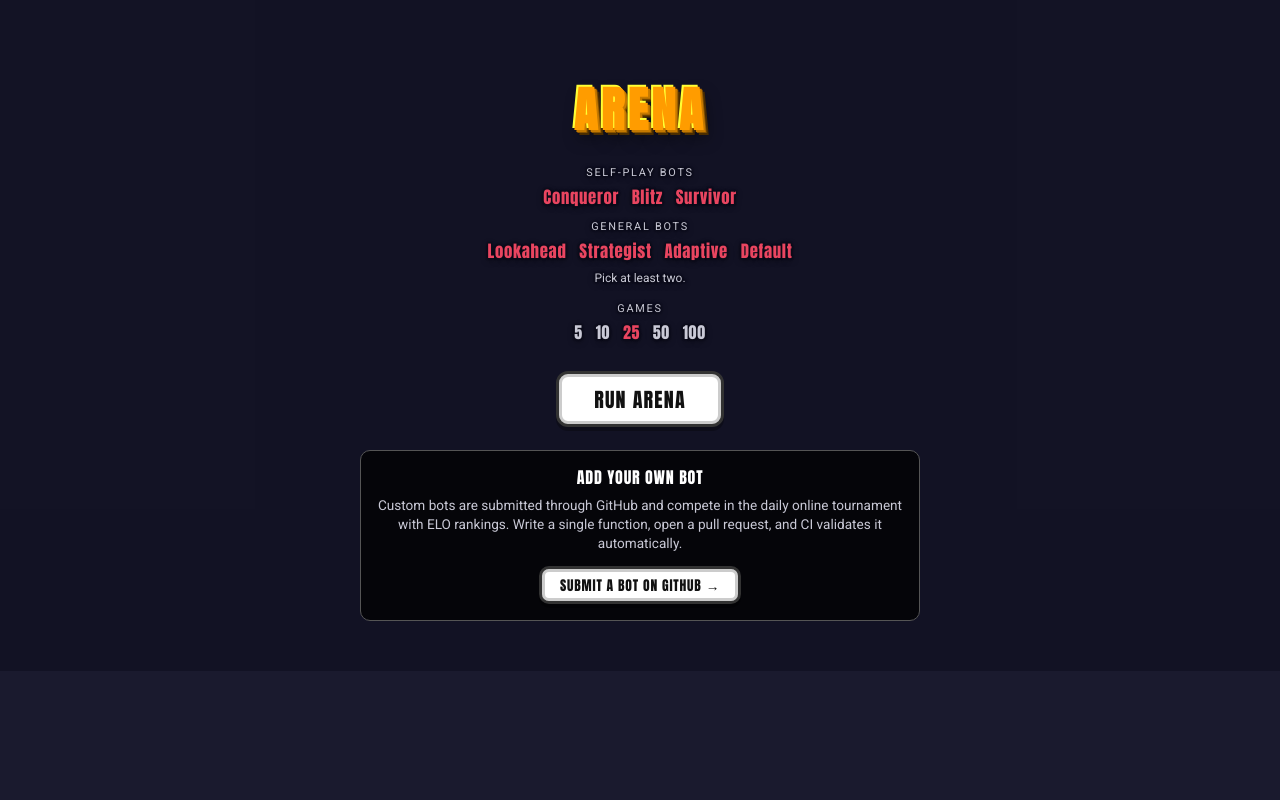
Test: ArenaScreen broken-bot surfacing › warns and badges a bot that errors on every turn when RUN ARENA is clicked
This screenshot has width=1280, height=800.
Click the button "5": coordinates (579, 332) [568,318,589,346]
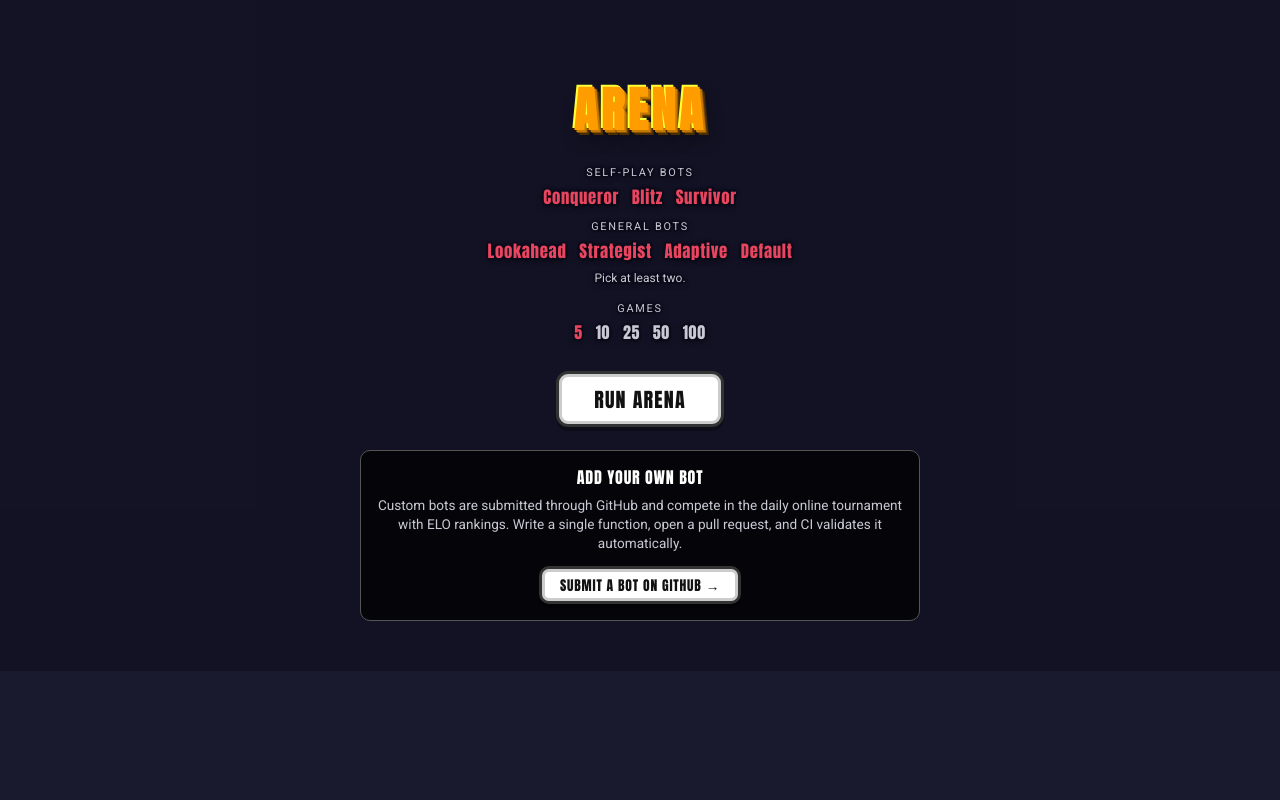
Click the button "RUN ARENA": coordinates (640, 399) [556,371,724,428]
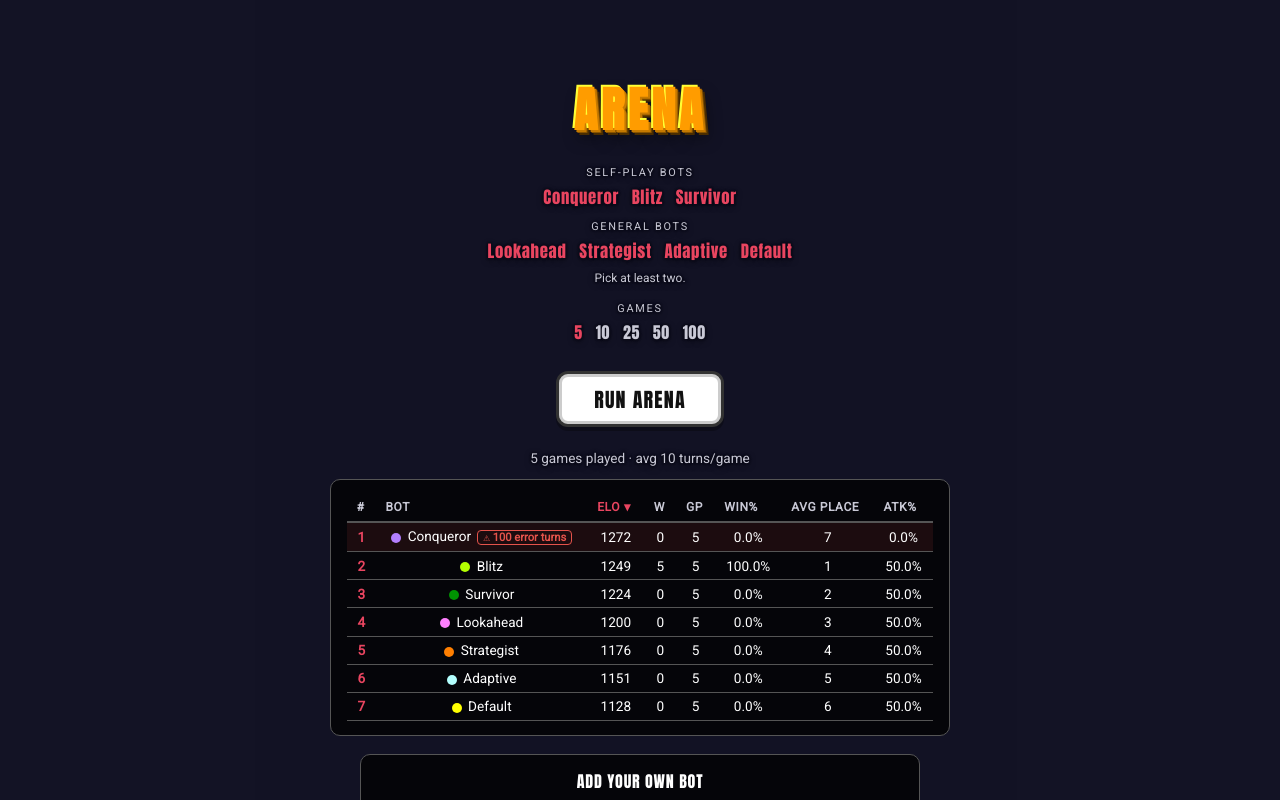
Now the text "⚠" is shown, box [483,531,566,544]
Now the text "error turn" is shown, box [483,531,566,544]
